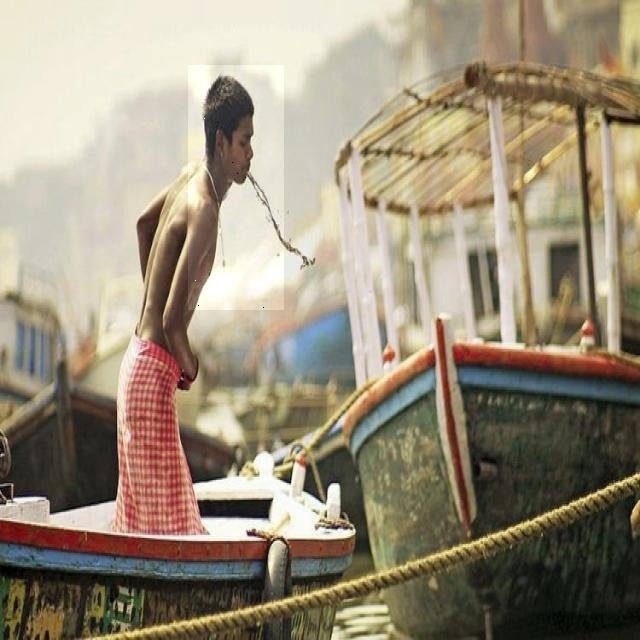Spitting: (188, 65, 284, 310)
